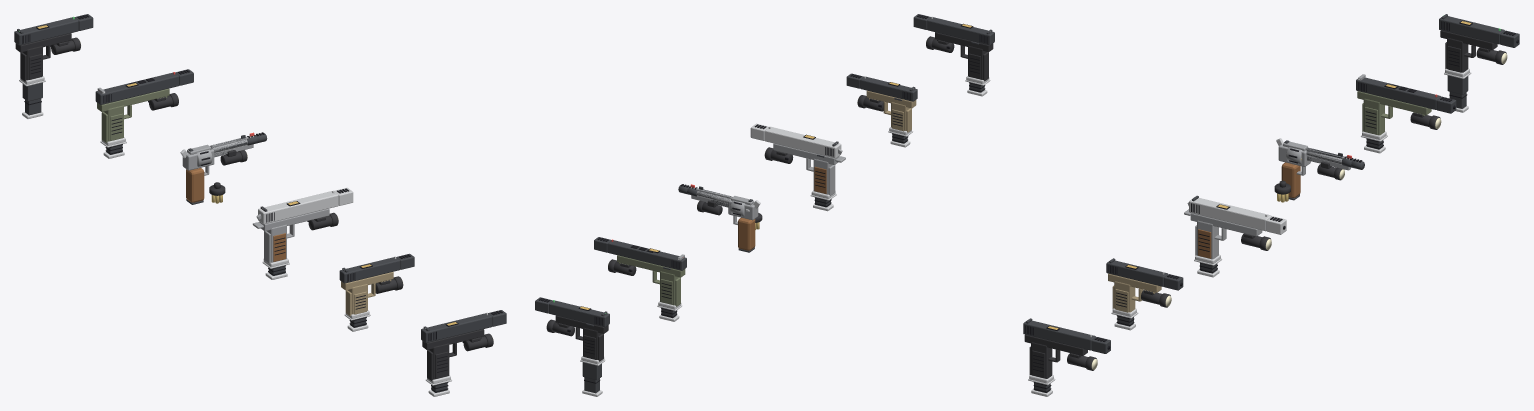
The model's file is pistols.glb.
3 views of the same model, side by side, from view 1: azimuth 30°, elevation 25°; view 2: azimuth 150°, elevation 25°; view 3: azimuth 330°, elevation 25° (orthographic). The views are drawn at different scales.
Visible parts, largest first — view 1: p2_slide, p4_slide, p0_slide, p5_slide, p1_slide, p3_grip, p4_frame, p2_frame, p0_frame; view 2: p2_slide, p4_slide, p0_slide, p5_slide, p1_slide, p3_grip, p4_frame, p2_frame, p0_frame; view 3: p2_slide, p4_slide, p0_slide, p5_slide, p1_slide, p4_frame, p2_frame, p3_grip, p0_frame.
Part boxes in pixels (x1,y1,x2,y2): p2_slide: (258, 191, 338, 224); p4_slide: (95, 72, 179, 104); p0_slide: (421, 313, 492, 342); p5_slide: (14, 17, 78, 45); p1_slide: (339, 257, 400, 283); p3_grip: (186, 168, 204, 202); p4_frame: (97, 88, 169, 111); p2_frame: (259, 208, 329, 231); p0_frame: (422, 329, 484, 349); p2_slide: (764, 127, 841, 158); p4_slide: (607, 240, 686, 270); p0_slide: (927, 17, 994, 45); p5_slide: (549, 300, 609, 327); p1_slide: (860, 76, 917, 101); p3_grip: (738, 217, 755, 250); p4_frame: (617, 255, 685, 277); p2_frame: (773, 143, 839, 164); p0_frame: (935, 32, 993, 51); p2_slide: (1189, 198, 1271, 231); p4_slide: (1356, 77, 1441, 109); p0_slide: (1023, 320, 1095, 350); p5_slide: (1439, 16, 1504, 44); p1_slide: (1106, 260, 1168, 286); p4_frame: (1357, 91, 1431, 115); p2_frame: (1190, 213, 1262, 236); p3_grip: (1281, 162, 1300, 197); p0_frame: (1024, 334, 1087, 355).
Size of the model in its own units: 0.2825 by 0.2425 by 2.04.
